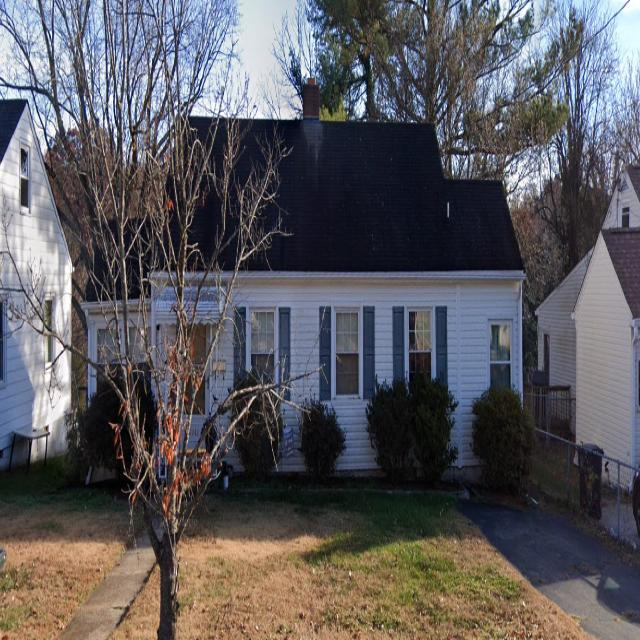House: (82, 79, 525, 486), (533, 167, 640, 502), (0, 97, 76, 472)
